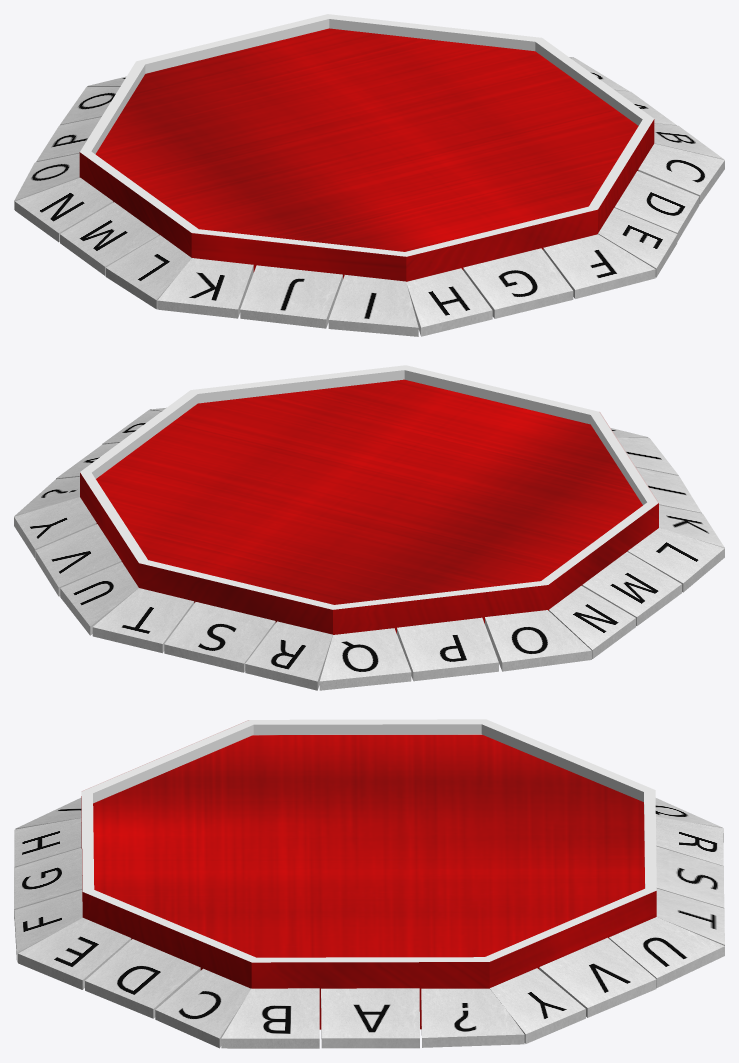
The model's file is Stop.glb1.1.glb.
3 renders of one model, top to bottom at view 1: azimuth 30°, elevation 25°; view 2: azimuth 150°, elevation 25°; view 3: azimuth 270°, elevation 25°, orthographic. The views are drawn at different scales.
Visible parts, largest first — view 1: Cylinder.002, J, G, I, F, K, H, M, L, N, D, C (+6 smaller); view 2: Cylinder.002, P, Z, O, Q, R, T, M, V, N, L, U (+7 smaller); view 3: Cylinder.002, A, B, ?, V, D, E, U, C, Y, G, Z (+6 smaller).
Boxes of the visible parts, x1,y1,x2,y2 form: Cylinder.002: (79,14,654,281); J: (240,265,342,328); G: (463,248,573,318); I: (328,275,418,336); F: (543,234,655,298); K: (157,258,253,318); H: (406,268,492,336); M: (60,202,159,275); L: (105,235,191,309); N: (15,177,113,242); D: (614,171,699,241); C: (638,143,724,204); Cylinder.002: (80,365,658,634); P: (397,617,498,681); Z: (164,602,275,672); O: (485,610,591,671); Q: (319,628,411,690); R: (245,621,332,690); T: (92,588,194,653); M: (582,551,681,625); V: (35,524,121,596); N: (549,585,635,658); L: (627,528,724,592); U: (60,562,138,635); Cylinder.002: (81,719,656,1029); A: (321,988,419,1048); B: (221,988,319,1048); ?: (421,988,524,1047); V: (539,937,656,1017); D: (85,939,200,1018); E: (18,918,131,989); U: (609,917,724,987); C: (155,968,250,1048); Y: (490,968,585,1043); G: (14,848,82,918); Z: (656,846,724,908).
Size of the model in its own units: 2.67 by 0.2781 by 2.67.
25 materials, 25 textured.
